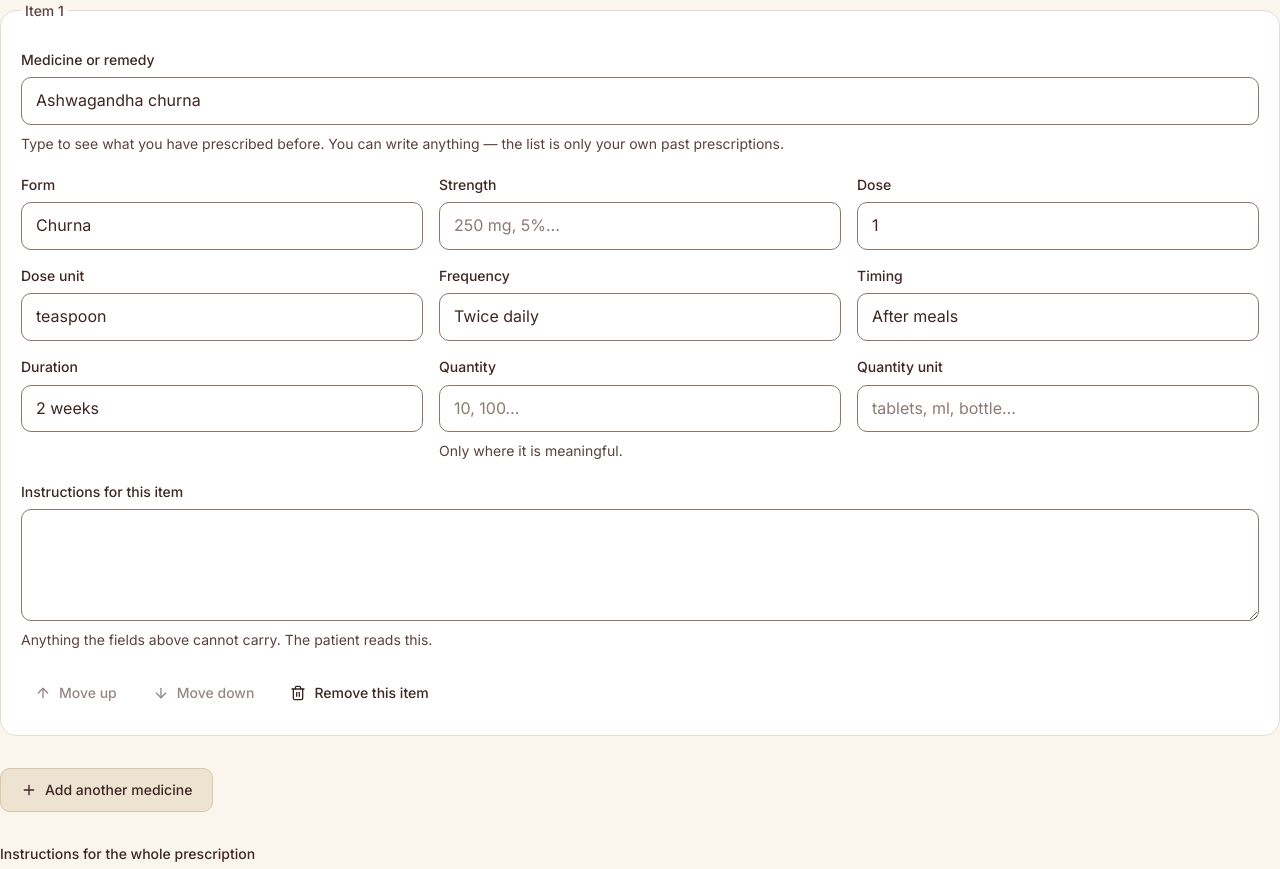
Scenario: the save state › starts idle and becomes dirty when something is typed
Type "x" into the dropdown labelled "Medicine or remedy".
click(640, 101); type("x")  # box [21, 77, 1259, 125]
(page scrolled)
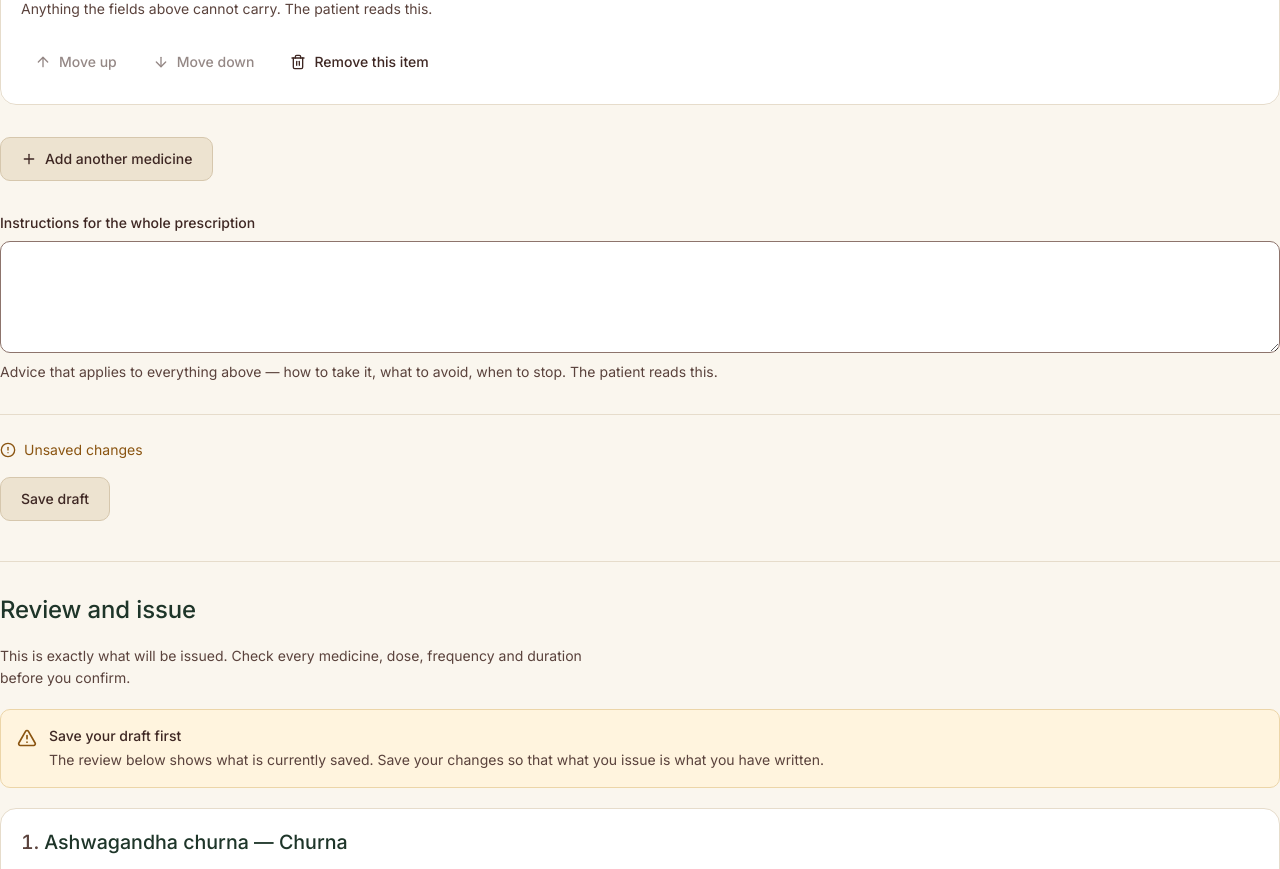
Expected: the text "Unsaved changes" is shown, [24, 439, 143, 461]
